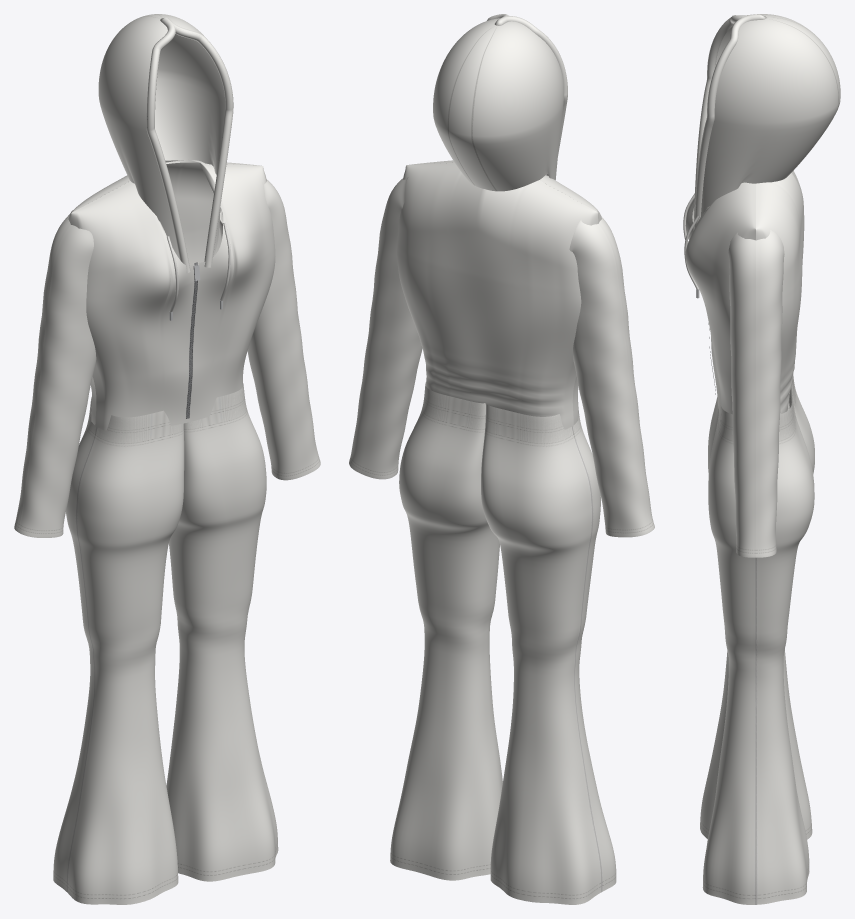
The model's file is combinaison-capuche.glb.
The picture shows the model from 3 angles, left to right: view 1: azimuth 30°, elevation 25°; view 2: azimuth 150°, elevation 25°; view 3: azimuth 270°, elevation 25°; orthographic projection.
Parts seen in each view (by area): view 1: Jambe_gauche, Jambe_droite, Devant, Capuche, Manche_gauche, Manche_droite, Bord_capuche, Dos, Zip; view 2: Jambe_gauche, Jambe_droite, Dos, Capuche, Manche_gauche, Manche_droite, Bord_capuche, Devant; view 3: Jambe_droite, Capuche, Manche_droite, Devant, Dos, Jambe_gauche, Bord_capuche.
Part boxes in pixels (x1,y1,x2,y2): Jambe_gauche: (53, 397, 184, 904); Jambe_droite: (166, 382, 278, 881); Devant: (71, 162, 275, 430); Capuche: (98, 14, 225, 259); Manche_gauche: (14, 210, 96, 537); Manche_droite: (219, 179, 320, 480); Bord_capuche: (146, 17, 233, 273); Dos: (68, 160, 261, 425); Zip: (185, 262, 198, 419); Jambe_gauche: (481, 402, 616, 904); Jambe_droite: (390, 382, 502, 880); Dos: (397, 162, 598, 429); Capuche: (433, 18, 563, 191); Manche_gauche: (569, 216, 654, 537); Manche_droite: (349, 177, 422, 479); Bord_capuche: (487, 14, 567, 175); Devant: (407, 160, 601, 424); Jambe_droite: (702, 387, 814, 904); Capuche: (701, 14, 840, 216); Manche_droite: (728, 229, 784, 557); Devant: (685, 182, 755, 414); Dos: (756, 171, 804, 414); Jambe_gauche: (700, 374, 814, 839); Bord_capuche: (693, 14, 766, 230).
Size of the model in its own units: 0.6585 by 1.78 by 0.3027.
Materials: 9 (7 with a texture image).
